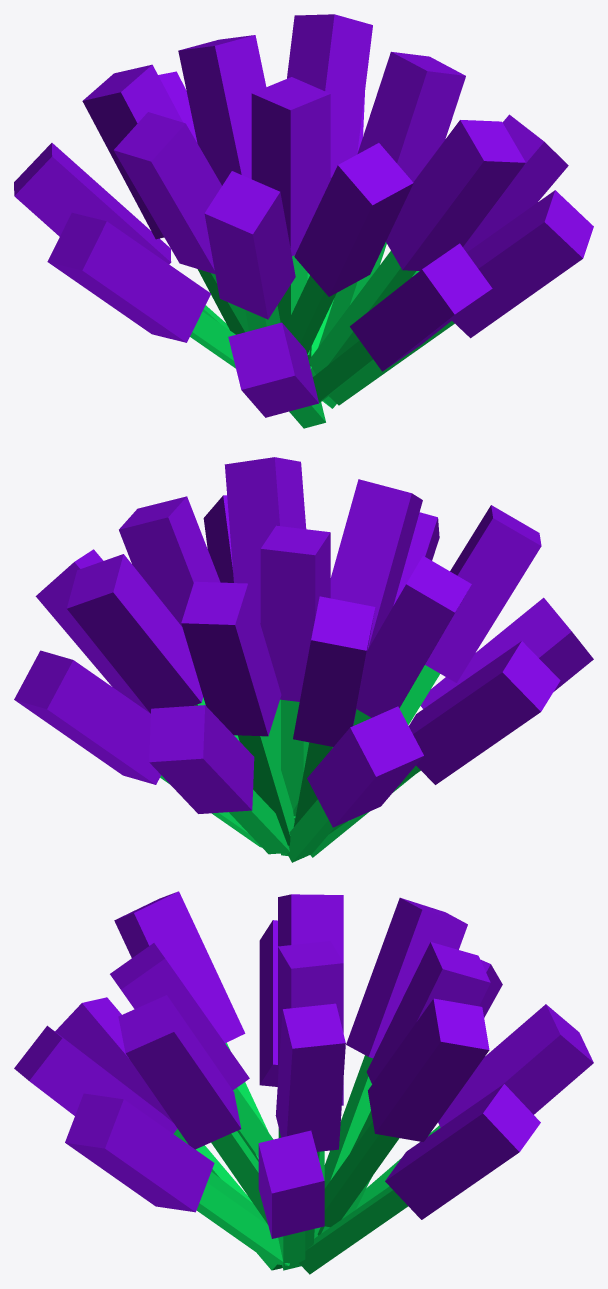
File: LavendarPatch.fbx
3 views of the same model, one above another, from view 1: azimuth 30°, elevation 25°; view 2: azimuth 150°, elevation 25°; view 3: azimuth 270°, elevation 25° (orthographic). The views are drawn at different scales.
Visible parts, largest first — view 1: Cube.004; view 2: Cube.004; view 3: Cube.004.
Part boxes in pixels (x1=…): Cube.004: x1=14, y1=14, x2=593, y2=428; Cube.004: x1=14, y1=457, x2=593, y2=862; Cube.004: x1=14, y1=891, x2=593, y2=1274.
Size of the model in its own units: 128 by 124 by 78.32.
